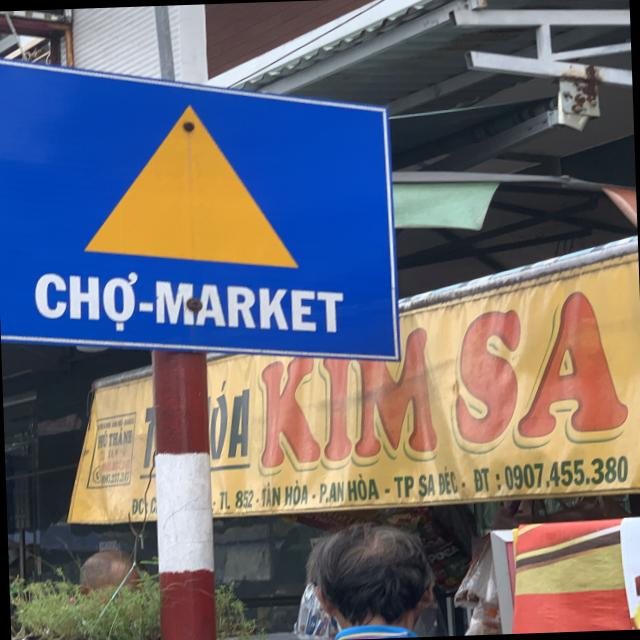Cho_Quay_Xe: (0, 35, 404, 361)
